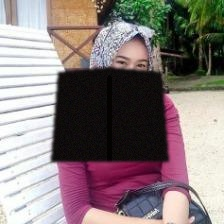Cadar_Niqab: (50, 20, 168, 161)
